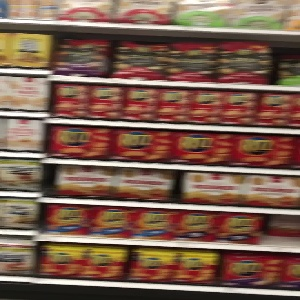void: (264, 213, 300, 245)
